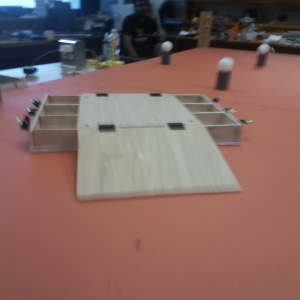corner: (199, 10, 212, 49)
obstacle: (211, 53, 236, 91), (254, 44, 270, 67), (160, 40, 172, 63)
side: (28, 92, 78, 150), (183, 90, 252, 127)
slope: (79, 122, 209, 197)
